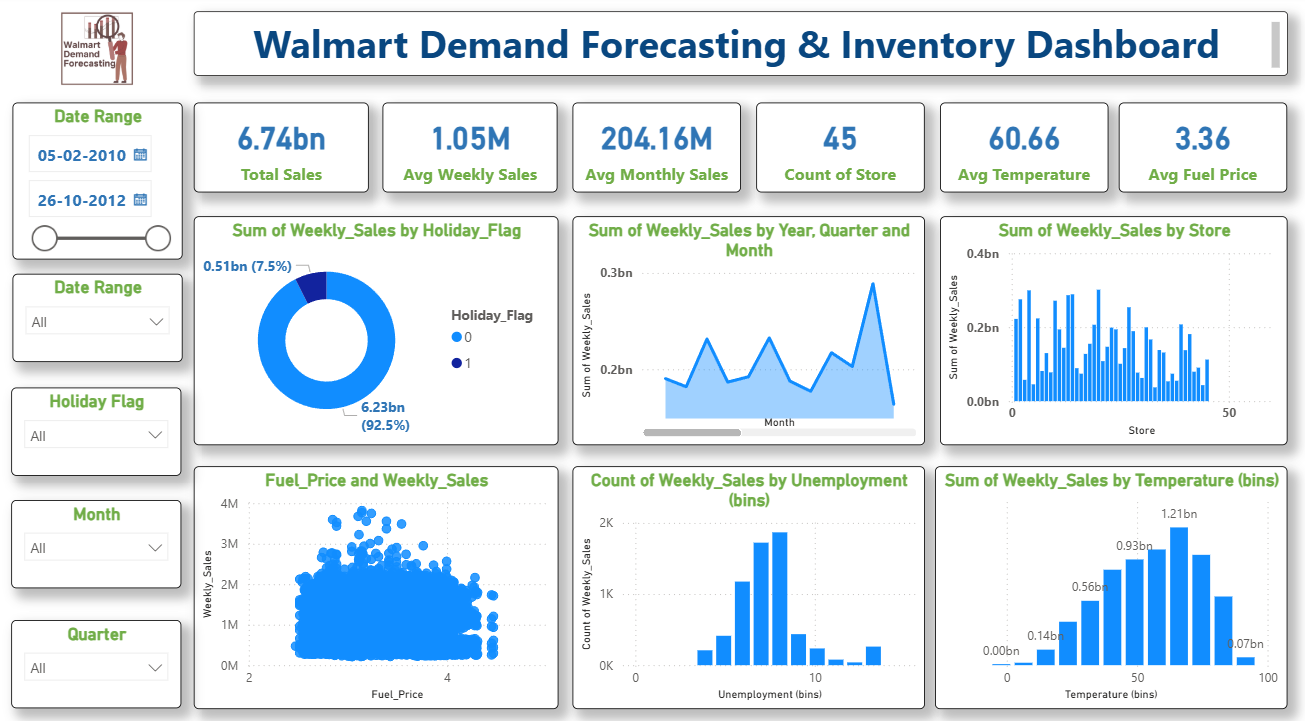

The dashboard page shown, as its layout file describes it:
{"tool":"powerbi","page":{"name":"Page 1","canvas":[1280,720],"ordinal":0},"visuals":[{"type":"textbox","box":[189.4,16.5,1070.3,63.1],"z":0},{"type":"image","box":[0,15.9,189.5,74.6],"z":1000},{"type":"card","fields":{"Values":["Sum(Walmart.Weekly_Sales)"]},"box":[189.4,105.7,171.5,87.8],"z":2000},{"type":"card","fields":{"Values":["Avg(Walmart.Weekly_Sales)"]},"box":[374.6,105.7,171.5,87.8],"z":3000},{"type":"slicer","title":"Date Range","fields":{"Values":["Walmart.Date"]},"box":[12.3,105.7,166,153.7],"z":4000},{"type":"card","fields":{"Values":["Walmart.Average_Monthly_Sales"]},"box":[559.9,105.7,164.7,87.8],"z":5000},{"type":"card","fields":{"Values":["Count(Walmart.Store)"]},"box":[739.6,105.7,164.7,87.8],"z":6000},{"type":"card","fields":{"Values":["Avg(Walmart.Temperature)"]},"box":[919.4,105.7,164.7,87.8],"z":7000},{"type":"card","fields":{"Values":["Avg(Walmart.Fuel_Price)"]},"box":[1095,105.7,164.7,87.8],"z":8000},{"type":"slicer","title":"Date Range","fields":{"Values":["Walmart.Date.Variation.Date Hierarchy.Year"]},"box":[12.3,273.1,166,86.4],"z":9000},{"type":"donutChart","fields":{"Category":["Walmart.Holiday_Flag"],"Y":["Sum(Walmart.Weekly_Sales)"]},"box":[189.4,216.8,356.8,223.7],"z":10000},{"type":"stackedAreaChart","fields":{"Y":["Sum(Walmart.Weekly_Sales)"],"Category":["Walmart.Date.Variation.Date Hierarchy.Year","Walmart.Date.Variation.Date Hierarchy.Quarter","Walmart.Date.Variation.Date Hierarchy.Month","Walmart.Date.Variation.Date Hierarchy.Day"]},"box":[559.9,216.8,344.4,223.7],"z":11000},{"type":"columnChart","fields":{"Category":["Walmart.Store"],"Y":["Sum(Walmart.Weekly_Sales)"]},"box":[919.4,216.8,340.3,223.7],"z":12000},{"type":"scatterChart","fields":{"X":["Walmart.Fuel_Price"],"Y":["Walmart.Weekly_Sales"]},"box":[189.4,461.1,356.8,237.4],"z":13000},{"type":"columnChart","fields":{"Category":["Walmart.Unemployment (bins)"],"Y":["CountNonNull(Walmart.Weekly_Sales)"]},"box":[559.9,461.1,344.4,237.4],"z":14000},{"type":"columnChart","fields":{"Y":["Sum(Walmart.Weekly_Sales)"],"Category":["Walmart.Temperature (bins)"]},"box":[915.3,461.1,344.4,237.4],"z":15000},{"type":"slicer","title":"Holiday Flag","fields":{"Values":["Walmart.Holiday_Flag"]},"box":[11,384.2,166,86.4],"z":16000},{"type":"slicer","title":"Month","fields":{"Values":["Walmart.Date.Variation.Date Hierarchy.Month"]},"box":[11,494,166,86.4],"z":17000},{"type":"slicer","title":"Quarter","fields":{"Values":["Walmart.Date.Variation.Date Hierarchy.Quarter"]},"box":[11,612,166,86.4],"z":18000}]}

Visuals, with their boxes in screenshot pixels (x1, y1, x2, y2), scaled from the page's 1280x720 canvas onto the 1305x721 screenshot:
textbox: [left=193, top=17, right=1284, bottom=80]
image: [left=0, top=16, right=193, bottom=91]
card - Sum(Walmart.Weekly_Sales): [left=193, top=106, right=368, bottom=194]
card - Avg(Walmart.Weekly_Sales): [left=382, top=106, right=557, bottom=194]
"Date Range" slicer: [left=13, top=106, right=182, bottom=260]
card - Walmart.Average_Monthly_Sales: [left=571, top=106, right=739, bottom=194]
card - Count(Walmart.Store): [left=754, top=106, right=922, bottom=194]
card - Avg(Walmart.Temperature): [left=937, top=106, right=1105, bottom=194]
card - Avg(Walmart.Fuel_Price): [left=1116, top=106, right=1284, bottom=194]
"Date Range" slicer: [left=13, top=273, right=182, bottom=360]
donutChart - Walmart.Holiday_Flag x Sum(Walmart.Weekly_Sales): [left=193, top=217, right=557, bottom=441]
stackedAreaChart - Sum(Walmart.Weekly_Sales) x Walmart.Date.Variation.Date Hierarchy.Year: [left=571, top=217, right=922, bottom=441]
columnChart - Walmart.Store x Sum(Walmart.Weekly_Sales): [left=937, top=217, right=1284, bottom=441]
scatterChart - Walmart.Fuel_Price x Walmart.Weekly_Sales: [left=193, top=462, right=557, bottom=699]
columnChart - Walmart.Unemployment (bins) x CountNonNull(Walmart.Weekly_Sales): [left=571, top=462, right=922, bottom=699]
columnChart - Sum(Walmart.Weekly_Sales) x Walmart.Temperature (bins): [left=933, top=462, right=1284, bottom=699]
"Holiday Flag" slicer: [left=11, top=385, right=180, bottom=471]
"Month" slicer: [left=11, top=495, right=180, bottom=581]
"Quarter" slicer: [left=11, top=613, right=180, bottom=699]
